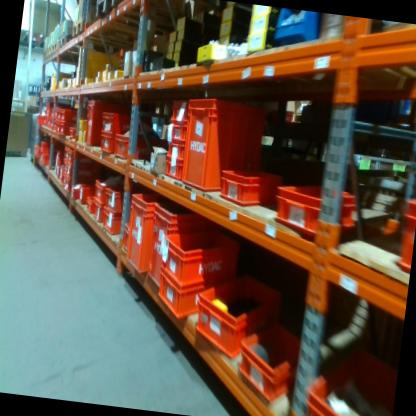pallet: (71, 12, 96, 46), (94, 0, 126, 24), (73, 0, 98, 13), (58, 33, 72, 49), (51, 39, 58, 54), (46, 43, 52, 56)
small_load_carrier: (191, 264, 285, 366), (179, 95, 271, 199), (142, 200, 222, 310), (305, 334, 399, 416), (233, 318, 306, 410), (156, 224, 243, 294), (123, 191, 181, 279), (271, 183, 361, 236), (217, 166, 280, 211), (154, 269, 205, 324), (82, 97, 124, 150), (113, 130, 158, 169), (395, 195, 416, 274), (98, 108, 140, 140), (102, 181, 129, 212), (101, 207, 127, 236), (66, 160, 99, 182), (120, 219, 138, 256), (169, 96, 191, 123), (90, 175, 110, 204), (66, 148, 100, 164), (99, 134, 120, 158), (165, 140, 186, 163), (168, 121, 188, 142), (164, 160, 184, 179), (77, 183, 90, 207), (85, 190, 97, 215), (59, 107, 79, 122), (60, 120, 78, 136), (92, 200, 104, 222), (67, 126, 79, 138), (64, 179, 73, 194), (55, 152, 61, 172), (60, 145, 69, 158), (61, 173, 68, 187), (55, 120, 61, 135), (62, 158, 67, 173), (57, 108, 63, 120), (55, 167, 61, 179)
